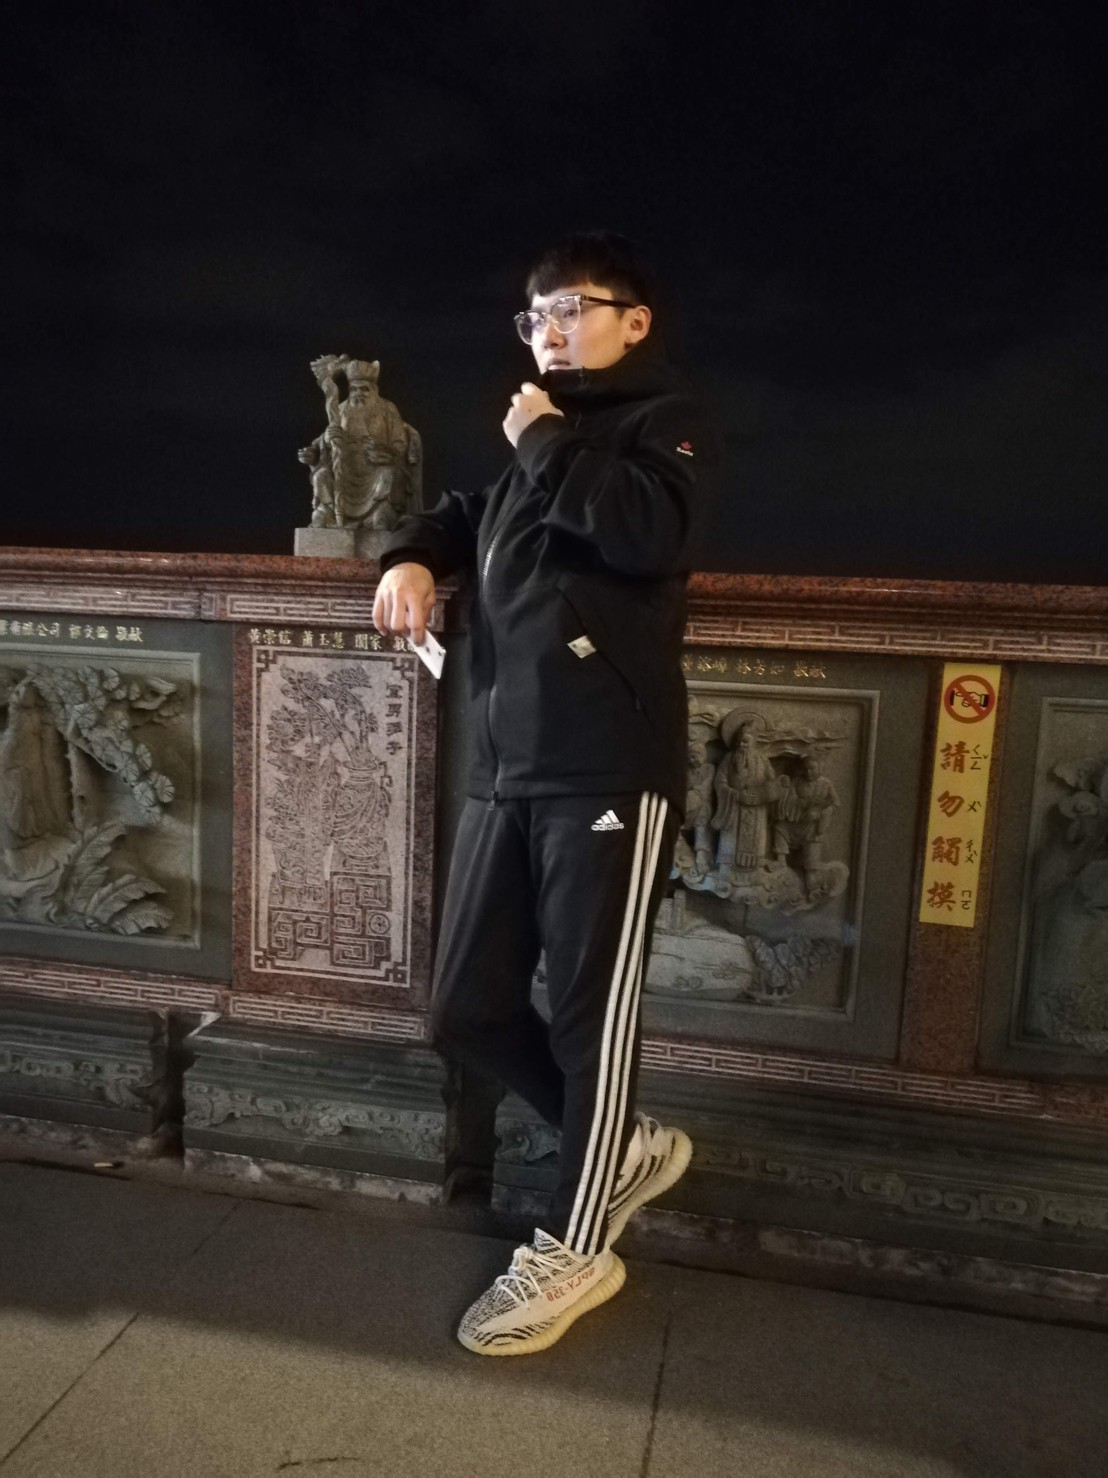people: (436, 228, 664, 1338)
